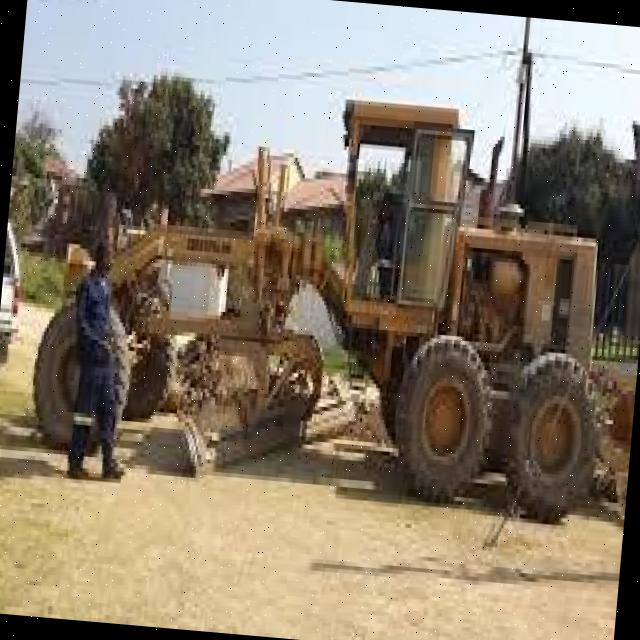Grader: (14, 58, 625, 547)
